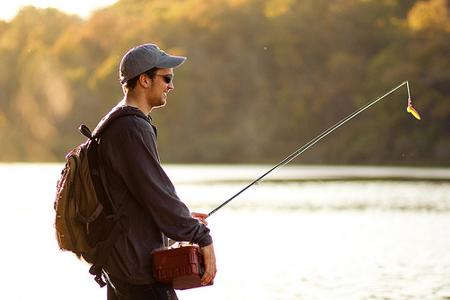person: (84, 44, 216, 300)
